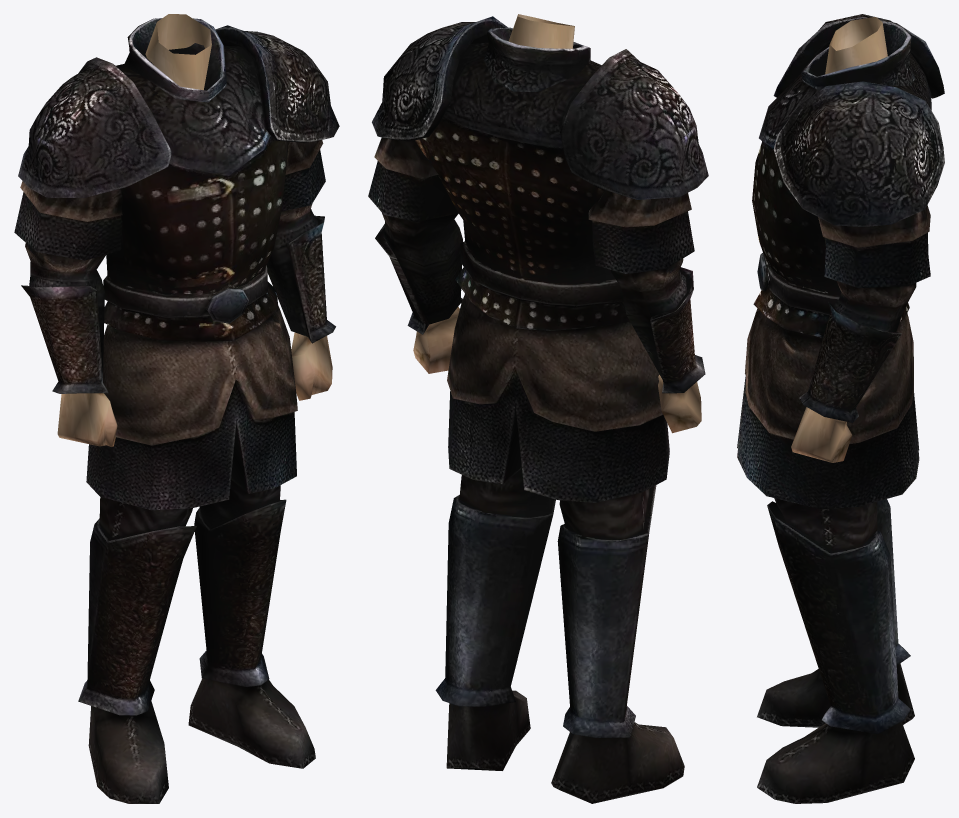
File: PIRANHA_PALADIUM.glb
3 renders of one model, left to right at view 1: azimuth 30°, elevation 25°; view 2: azimuth 150°, elevation 25°; view 3: azimuth 270°, elevation 25°, orthographic. The views are drawn at different scales.
Visible parts, largest first — view 1: PIRANHA_PALADIUM; view 2: PIRANHA_PALADIUM; view 3: PIRANHA_PALADIUM.
Part boxes in pixels (left/top/right/bottom): PIRANHA_PALADIUM: left=14, top=14, right=339, bottom=803; PIRANHA_PALADIUM: left=368, top=14, right=708, bottom=803; PIRANHA_PALADIUM: left=737, top=14, right=944, bottom=803.
Size of the model in its own units: 0.7375 by 1.72 by 0.4427.
2 materials, 2 textured.
